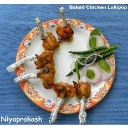chicken_lollipop: (5, 57, 57, 90), (50, 81, 73, 124), (33, 16, 57, 49), (74, 81, 92, 124), (53, 5, 75, 39)
